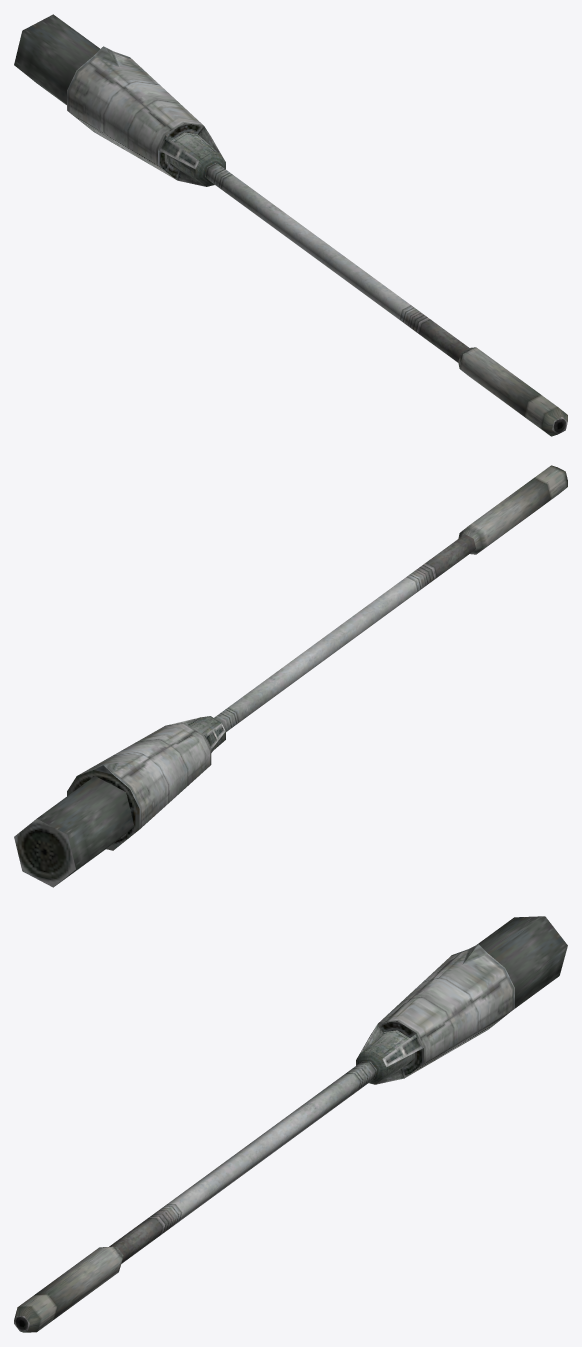
Rendered from bwing_weapon2r_s05_l1.fbx.
The picture shows the model from 3 angles, top to bottom: view 1: azimuth 30°, elevation 25°; view 2: azimuth 150°, elevation 25°; view 3: azimuth 330°, elevation 25°; orthographic projection.
Parts seen in each view (by area): view 1: mesh_node; view 2: mesh_node; view 3: mesh_node.
Part boxes in pixels (<box>): mesh_node: <box>14,14,567,436</box>; mesh_node: <box>14,465,567,887</box>; mesh_node: <box>14,916,567,1332</box>.
Bounding box in the file's own units: 0.2552 × 0.2794 × 3.13.
1 material, 1 textured.
